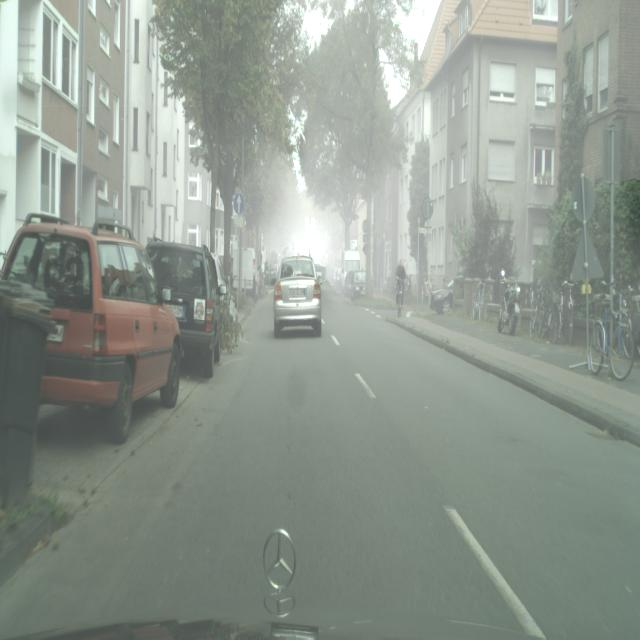bicycle: (242, 248, 262, 302)
bus: (0, 212, 182, 443), (147, 241, 222, 378), (273, 255, 323, 338), (347, 269, 366, 301)
car: (588, 288, 635, 379), (529, 281, 551, 339), (559, 279, 576, 346)
person: (395, 258, 406, 313)
truck: (498, 278, 521, 335)
